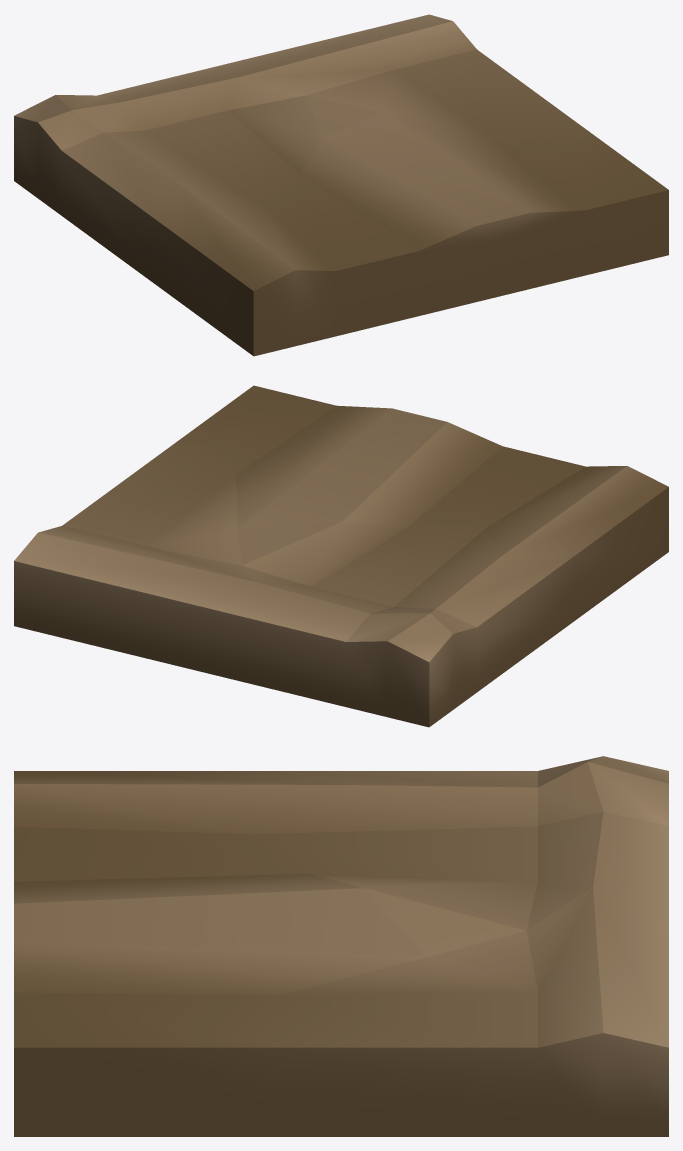
The model's file is Farmland_Soil_CornerL.fbx.
3 renders of one model, top to bottom at view 1: azimuth 30°, elevation 25°; view 2: azimuth 150°, elevation 25°; view 3: azimuth 270°, elevation 25°, orthographic. The views are drawn at different scales.
Visible parts, largest first — view 1: Farmland_Soil_CornerL.003; view 2: Farmland_Soil_CornerL.003; view 3: Farmland_Soil_CornerL.003.
Boxes of the visible parts, x1,y1,x2,y2 form: Farmland_Soil_CornerL.003: (14, 14, 668, 356); Farmland_Soil_CornerL.003: (14, 385, 668, 727); Farmland_Soil_CornerL.003: (14, 756, 668, 1136).
Size of the model in its own units: 2 by 0.3942 by 2.
Materials: 1 (1 with a texture image).
